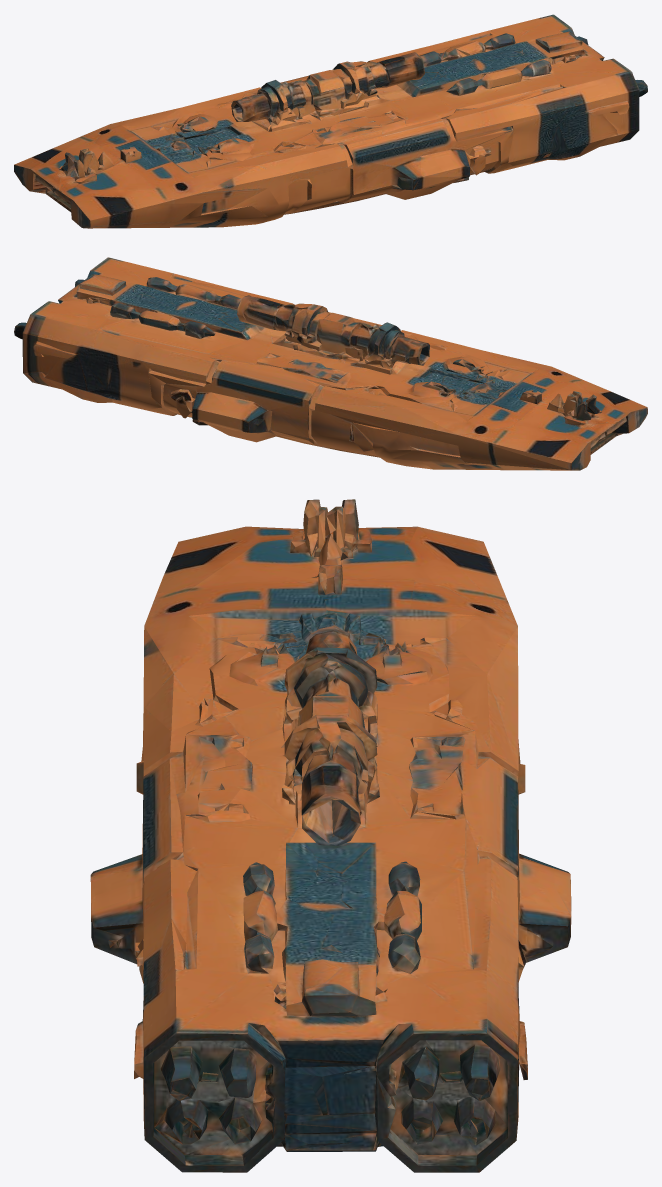
Rendered from nation-r-carrier.glb.
The picture shows the model from 3 angles, top to bottom: view 1: azimuth 30°, elevation 25°; view 2: azimuth 150°, elevation 25°; view 3: azimuth 270°, elevation 25°; orthographic projection. The views are drawn at different scales.
Bounding box in the file's own units: 1.9 × 0.4293 × 0.7098.
1 material, 1 textured.
